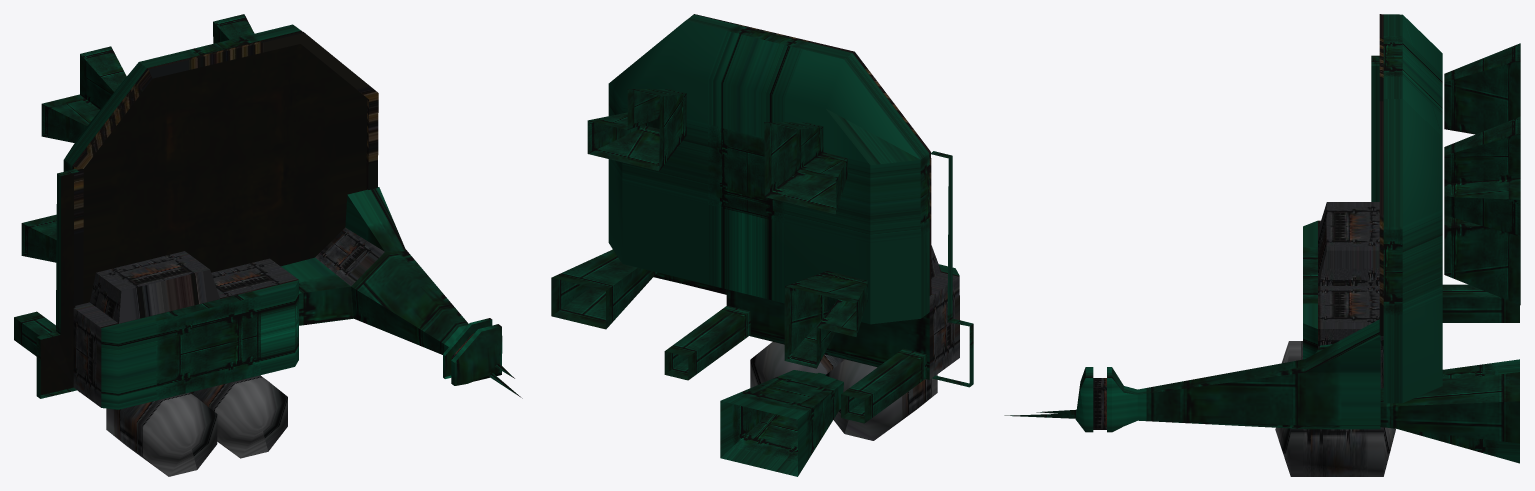
The model's file is landing-dock.glb.
3 views of the same model, side by side, from view 1: azimuth 30°, elevation 25°; view 2: azimuth 150°, elevation 25°; view 3: azimuth 270°, elevation 25° (orthographic). The views are drawn at different scales.
Parts seen in each view (by area): view 1: box01-FACE; view 2: box01-FACE; view 3: box01-FACE.
Boxes of the visible parts, x1,y1,x2,y2 form: box01-FACE: (14, 14, 522, 476); box01-FACE: (551, 14, 973, 476); box01-FACE: (1004, 14, 1520, 476).
Size of the model in its own units: 226 by 234 by 262.
Materials: 6 (6 with a texture image).
